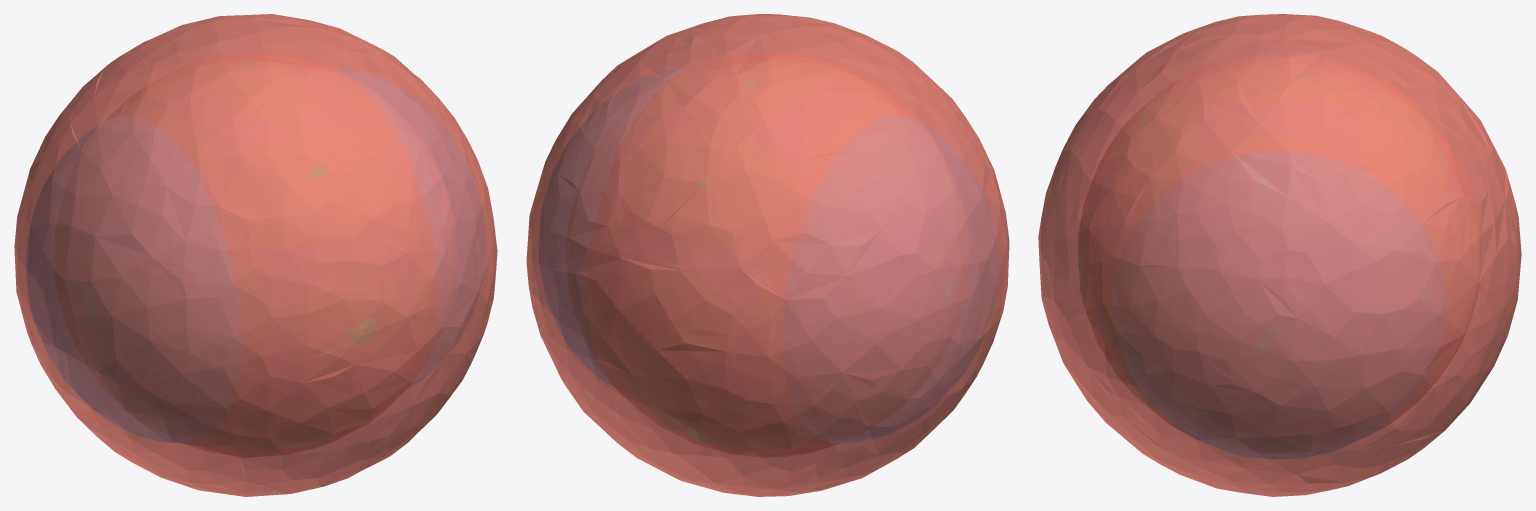
3 renders of one model, left to right at view 1: azimuth 30°, elevation 25°; view 2: azimuth 150°, elevation 25°; view 3: azimuth 270°, elevation 25°, orthographic.
Visible parts, largest first — view 1: Tl_n6_s_ml0_node, Tl_n5_s_ml0_node, Tl_n6_p_ml1_node, Tl_n5_d_ml0_node; view 2: Tl_n6_s_ml0_node, Tl_n5_s_ml0_node, Tl_n6_p_ml1_node; view 3: Tl_n6_s_ml0_node, Tl_n5_s_ml0_node, Tl_n6_p_ml1_node.
Boxes of the visible parts, x1=… form: Tl_n6_s_ml0_node: x1=14, y1=14, x2=497, y2=496; Tl_n5_s_ml0_node: x1=106, y1=53, x2=437, y2=457; Tl_n6_p_ml1_node: x1=26, y1=68, x2=485, y2=442; Tl_n5_d_ml0_node: x1=347, y1=318, x2=377, y2=345; Tl_n6_s_ml0_node: x1=526, y1=14, x2=1009, y2=496; Tl_n5_s_ml0_node: x1=586, y1=53, x2=919, y2=457; Tl_n6_p_ml1_node: x1=539, y1=67, x2=997, y2=442; Tl_n6_s_ml0_node: x1=1038, y1=14, x2=1521, y2=496; Tl_n5_s_ml0_node: x1=1078, y1=53, x2=1481, y2=439; Tl_n6_p_ml1_node: x1=1112, y1=50, x2=1446, y2=458.
Bounding box in the file's own units: 3.06 × 3.06 × 3.06.
